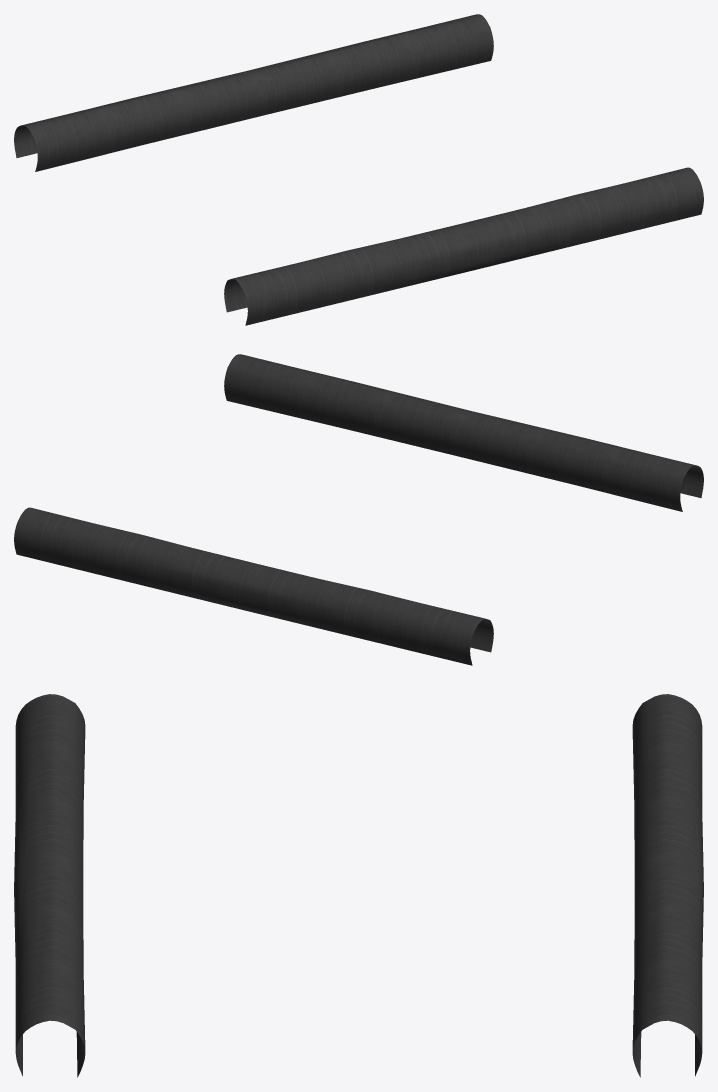
The model's file is large_black_edge_straight_complex.dae.
The picture shows the model from 3 angles, top to bottom: view 1: azimuth 30°, elevation 25°; view 2: azimuth 150°, elevation 25°; view 3: azimuth 270°, elevation 25°; orthographic projection. The views are drawn at different scales.
Visible parts, largest first — view 1: large_black_edge_straight; view 2: large_black_edge_straight; view 3: large_black_edge_straight.
Boxes of the visible parts, <box> form: large_black_edge_straight: <box>14,14,703,325</box>; large_black_edge_straight: <box>14,354,703,665</box>; large_black_edge_straight: <box>14,694,703,1077</box>.
Bounding box in the file's own units: 3 × 2.68 × 0.2485.
1 material, 1 textured.
